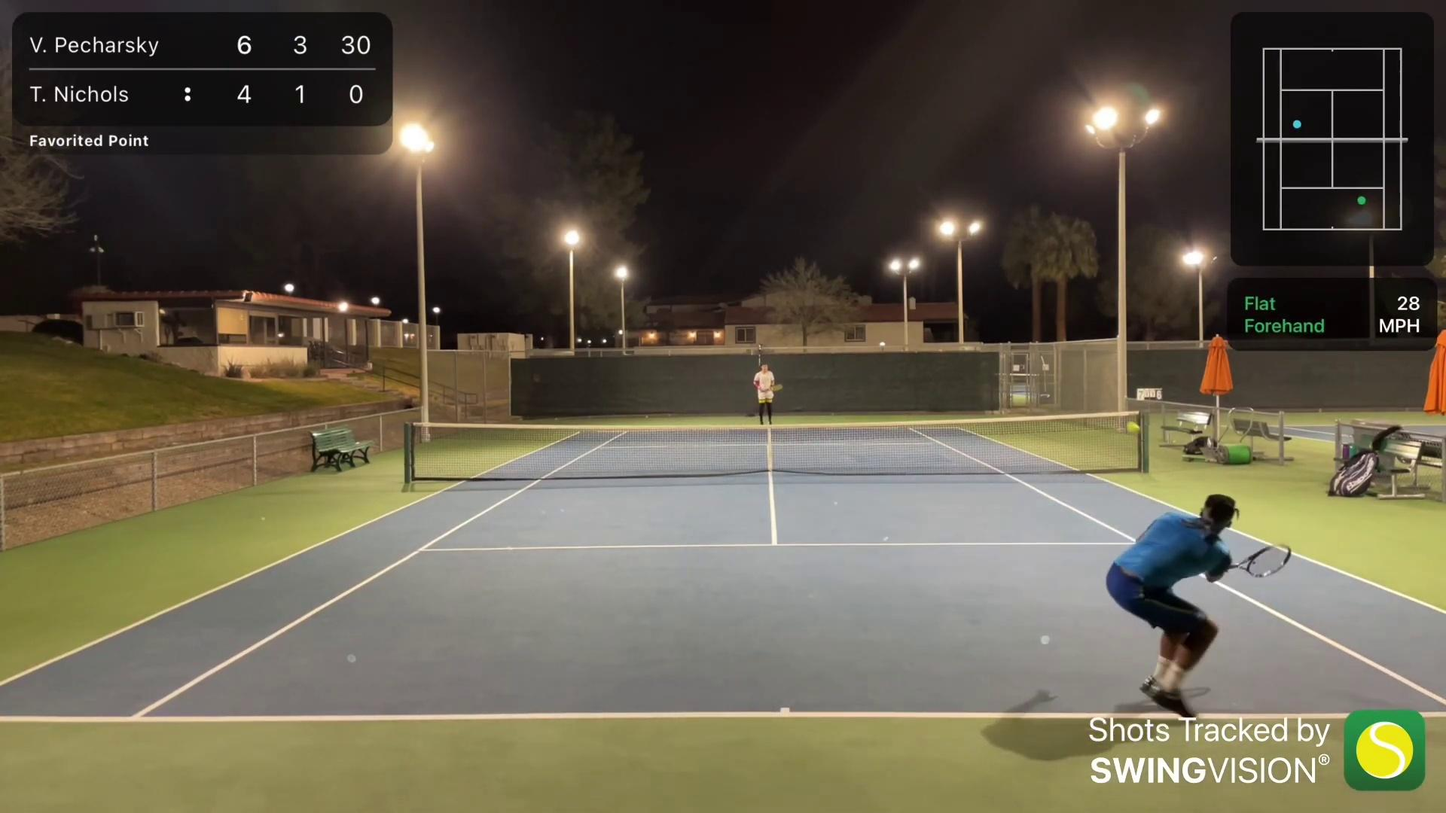ball: (1124, 417, 1138, 431)
